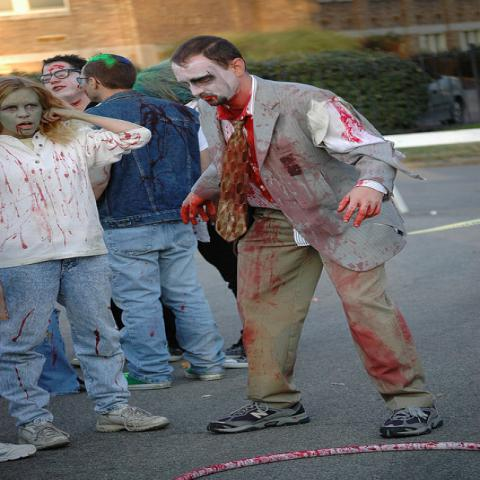car: (403, 75, 468, 129)
